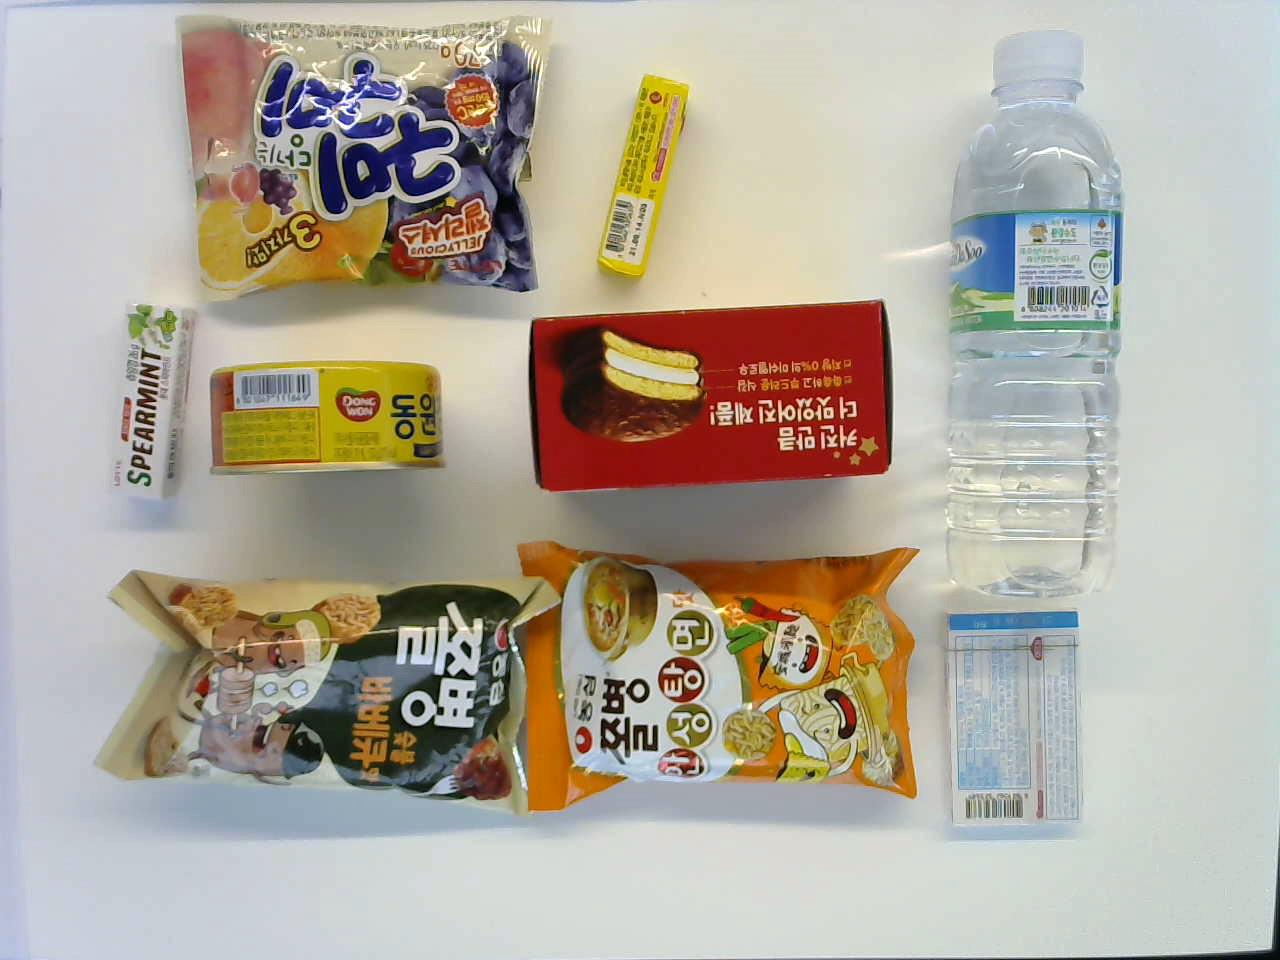ID_gum: (939, 609, 1089, 834)
chocopie: (525, 291, 895, 496)
gumi_gumi: (174, 10, 546, 301)
jjolbyung_noodle: (509, 536, 924, 816)
jjolbyung_ori: (91, 568, 561, 822)
juicyfresh: (581, 69, 694, 282)
samdasu: (922, 25, 1134, 599)
spearmint: (97, 297, 201, 499)
tuna: (200, 358, 447, 475)
